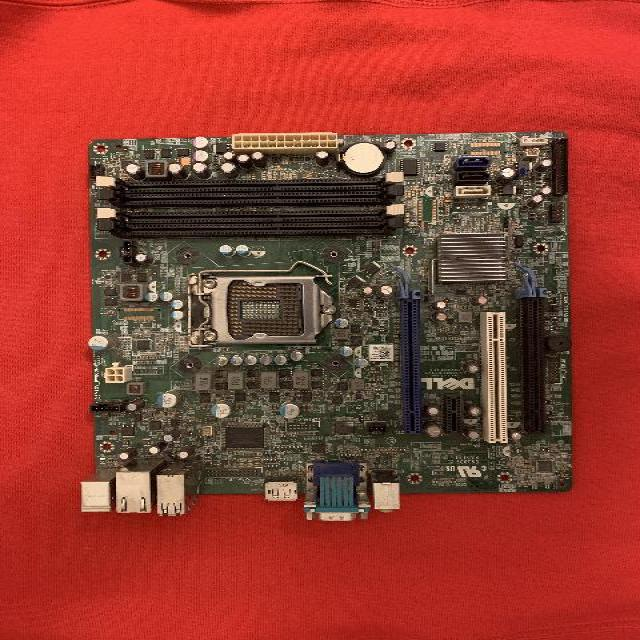Mainboard: (80, 131, 575, 522)
